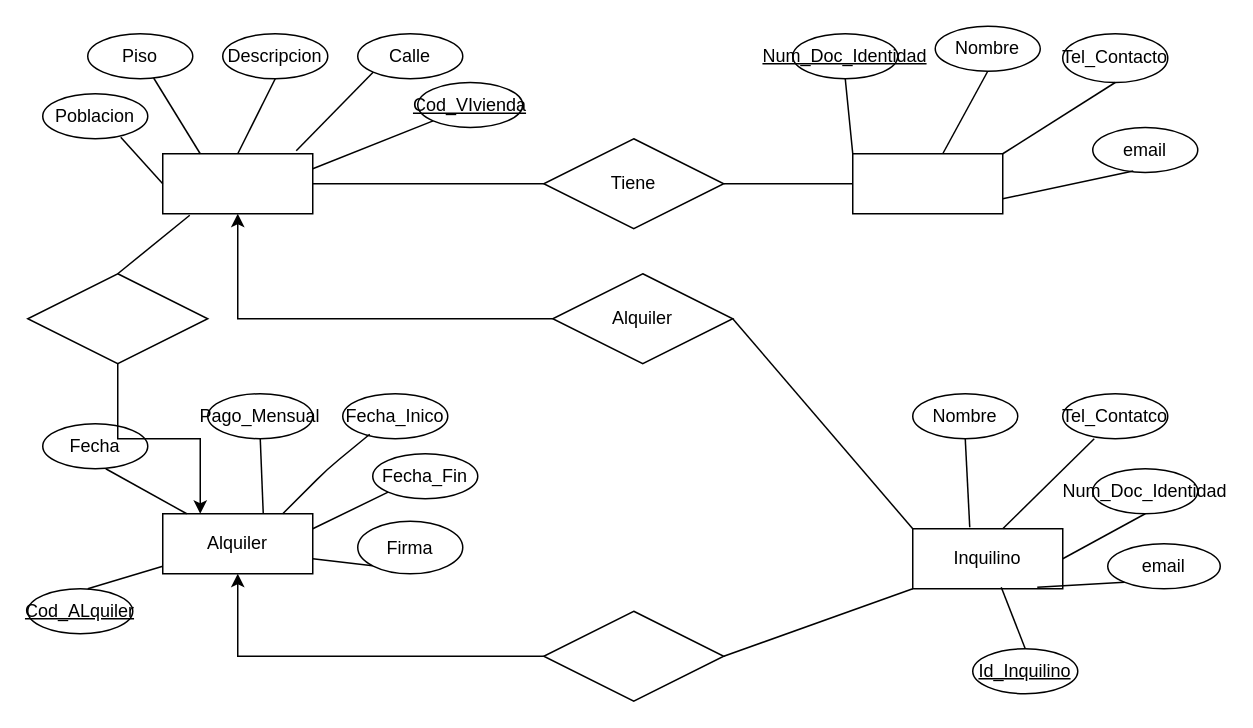
Some shapes in this 1253 by 728 pixel diagram are drawn without their labels. The shapes that lost their labels are listed below. From the top down, each one's centre as x and y in pixels, then its label:
At point 237,183: "vivienda".
At point 927,183: "Propietario".
At point 117,318: "Participa".
At point 633,655: "Realizado Por".
